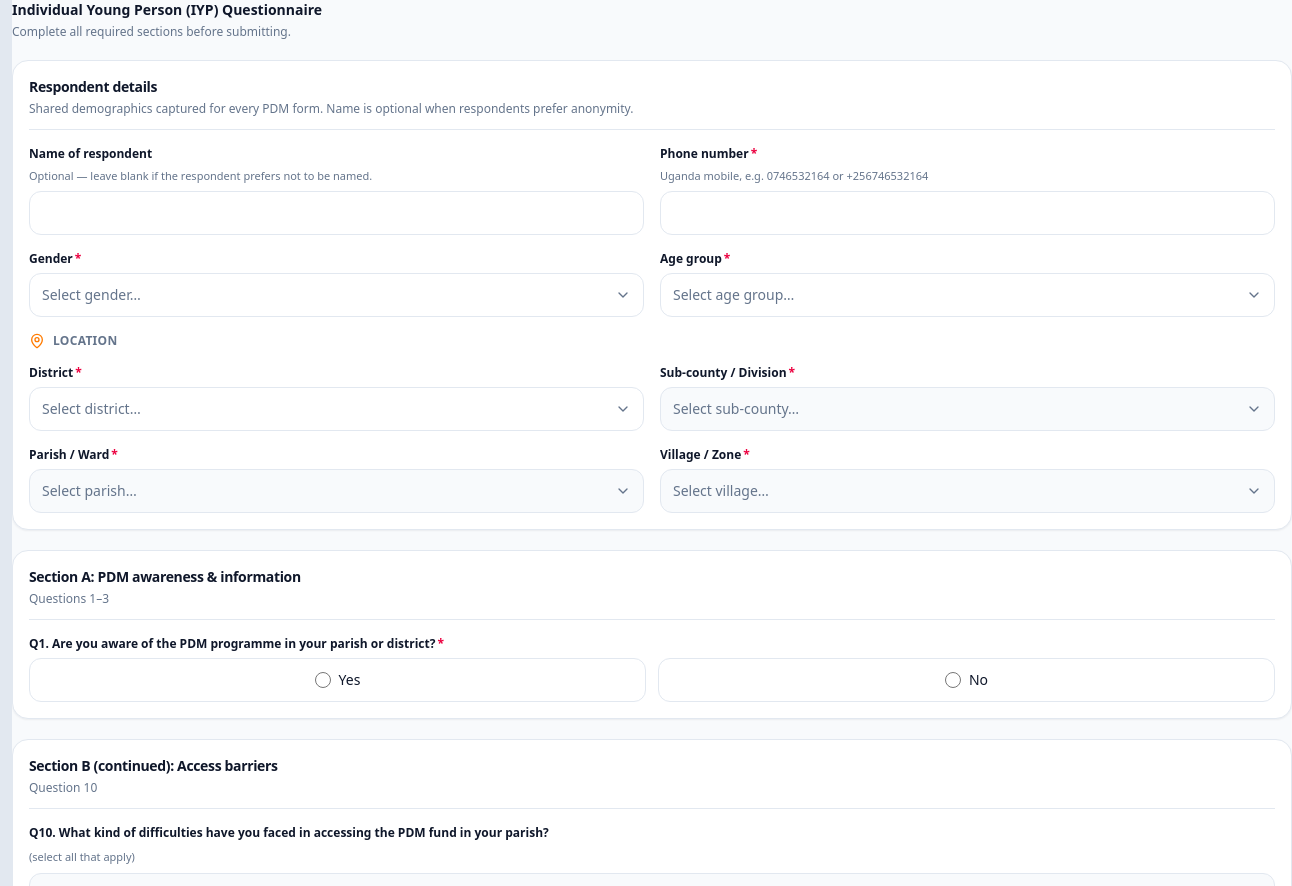
Test: IypForm › Q2 Other option reveals specify text input
Click the radio button with id "awareOfPdm-yes". click: (323, 680)
box: top-left (315, 672), bottom-right (331, 688)
(page scrolled)
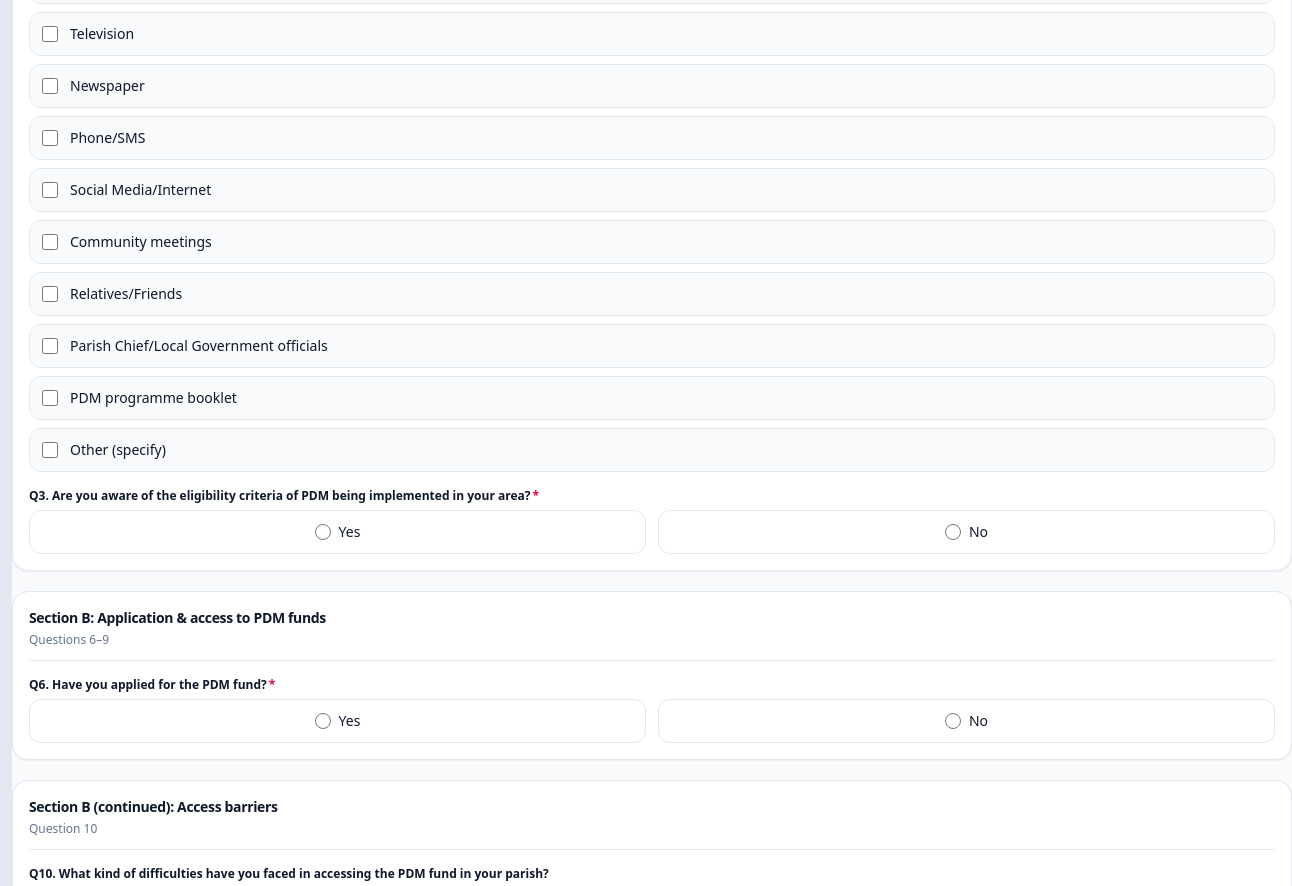
Click the checkbox labelled "Other (specify)". click: (50, 450)
box: top-left (42, 442), bottom-right (58, 458)
(page scrolled)
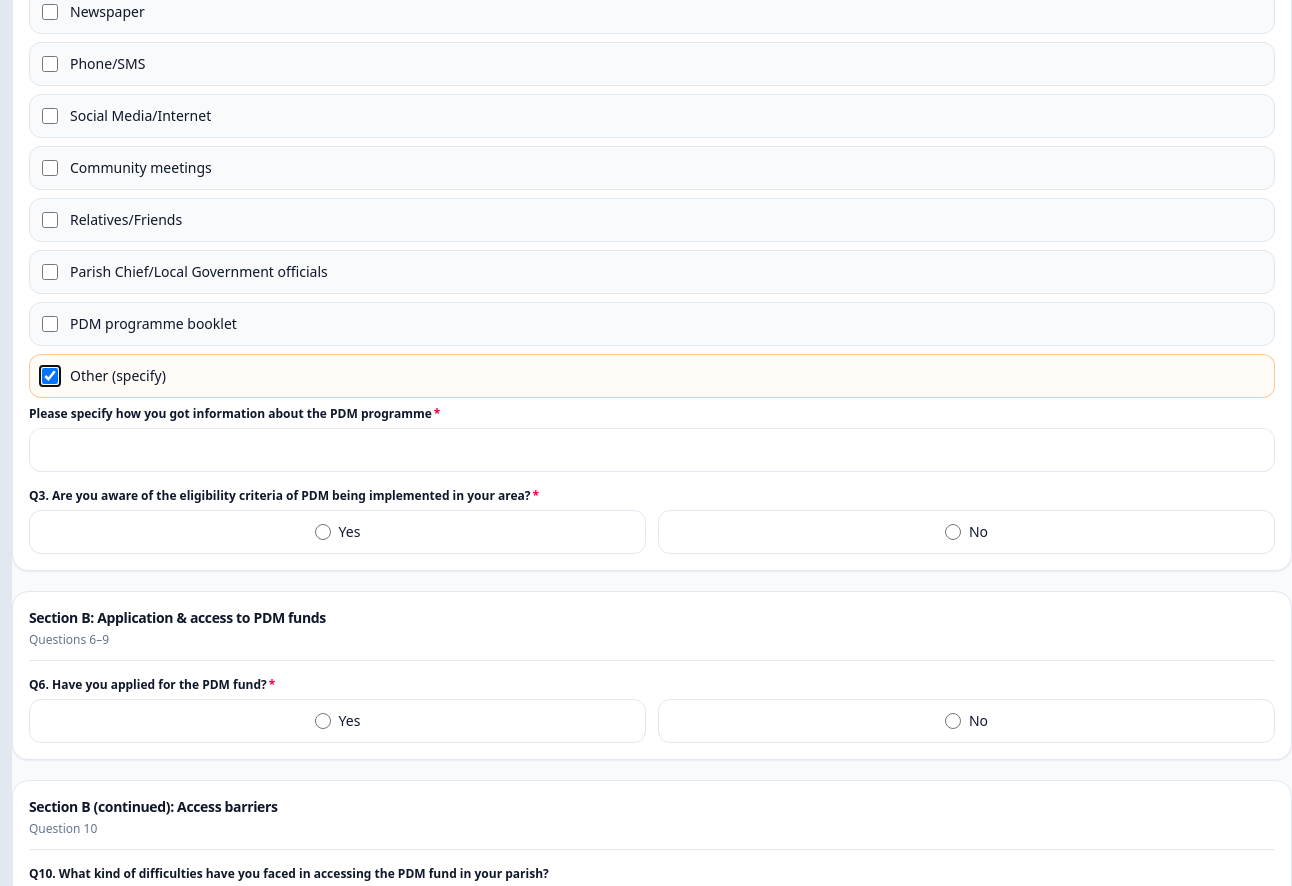
Expected: the field labelled "Please specify how you got information about the PDM programme" is shown, top-left (29, 428), bottom-right (1275, 472)
